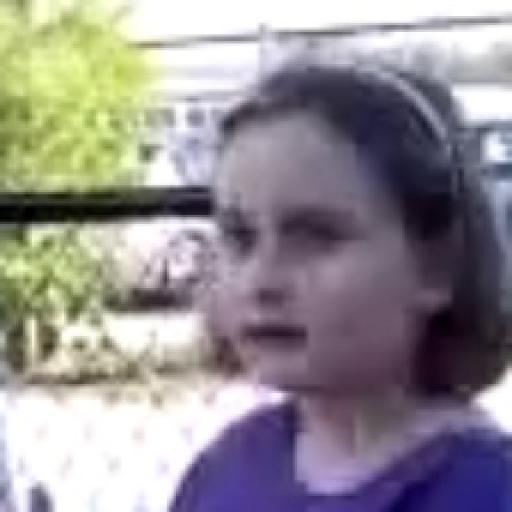Autism: (168, 68, 498, 506)
